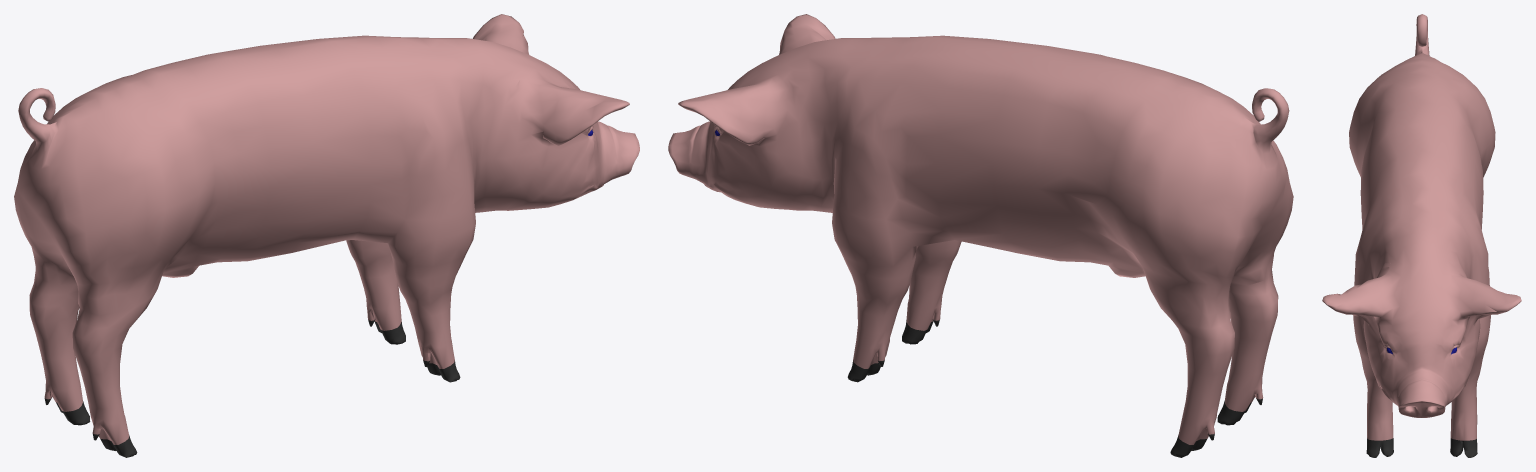
3 renders of one model, left to right at view 1: azimuth 30°, elevation 25°; view 2: azimuth 150°, elevation 25°; view 3: azimuth 270°, elevation 25°, orthographic. The views are drawn at different scales.
Parts seen in each view (by area): view 1: skin, hoofs; view 2: skin, hoofs; view 3: skin, hoofs.
Boxes of the visible parts, left/top/right/bottom form: skin: left=14, top=14, right=639, bottom=444; hoofs: left=44, top=319, right=460, bottom=457; skin: left=668, top=14, right=1293, bottom=444; hoofs: left=847, top=319, right=1262, bottom=457; skin: left=1322, top=14, right=1521, bottom=440; hoofs: left=1366, top=438, right=1477, bottom=457.
Size of the model in its own units: 5.22 by 2.93 by 1.83.
